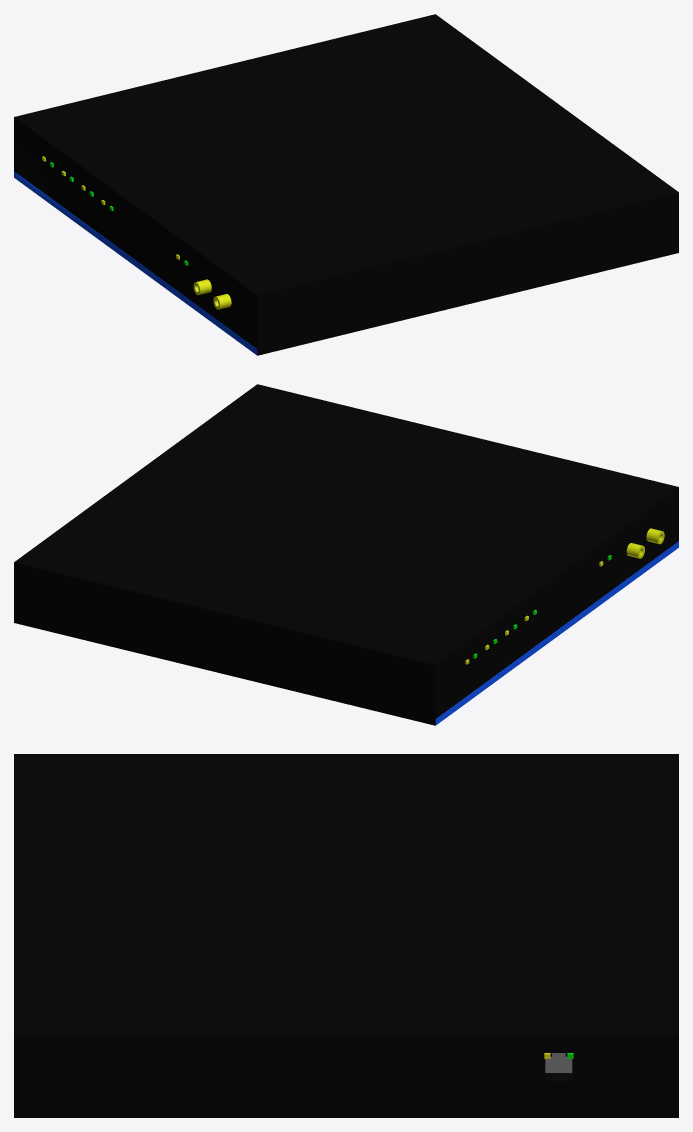
The model's file is router3FIX.fbx.
3 renders of one model, top to bottom at view 1: azimuth 30°, elevation 25°; view 2: azimuth 150°, elevation 25°; view 3: azimuth 270°, elevation 25°, orthographic. The views are drawn at different scales.
Visible parts, largest first — view 1: Plane.001; view 2: Plane.001; view 3: Plane.001.
Boxes of the visible parts, <box> form: Plane.001: <box>14,14,678,355</box>; Plane.001: <box>14,384,678,725</box>; Plane.001: <box>14,754,678,1117</box>.
Size of the model in its own units: 1.01 by 0.1347 by 0.9804.
